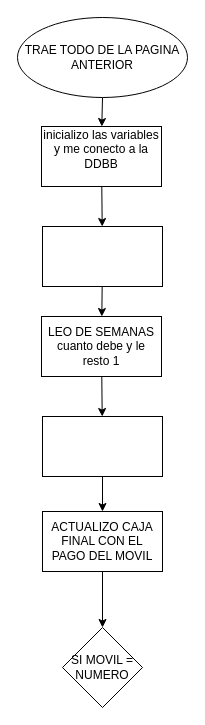
Some shapes in this 205 by 725 pixel diagram are drawn without their labels. Each missing label, with the centre of its shape:
LEO DE COMPETA deuda_anterior Y viajes_semana_actual: the point at 102,256
traigo todo de la paginaanterior: the point at 102,446
